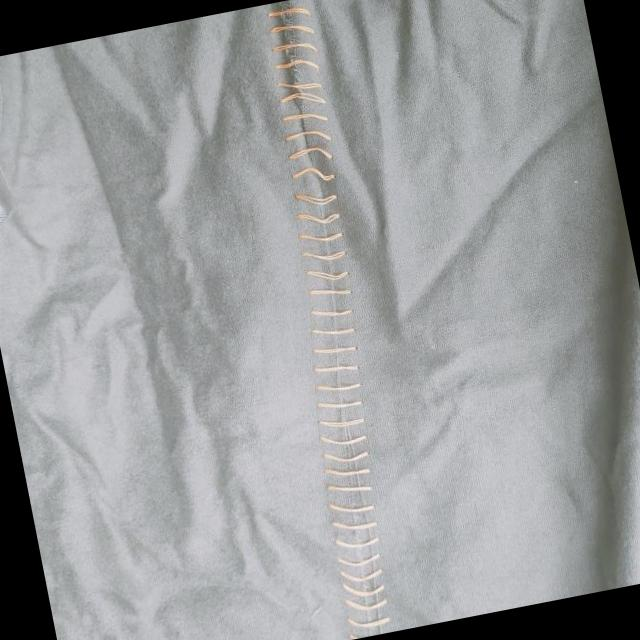seam: (220, 0, 434, 640)
